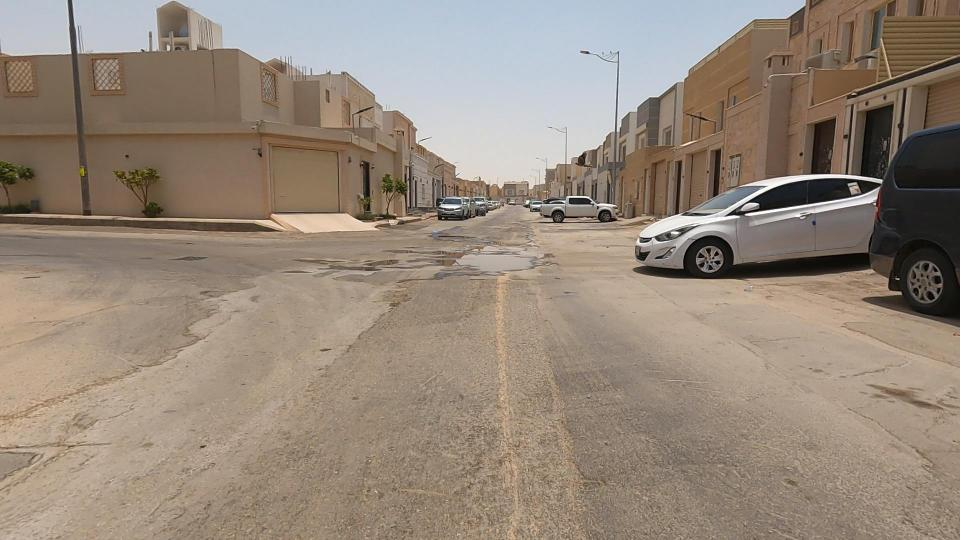POTHOLES: (291, 209, 470, 357), (418, 233, 533, 301), (414, 213, 487, 258)
